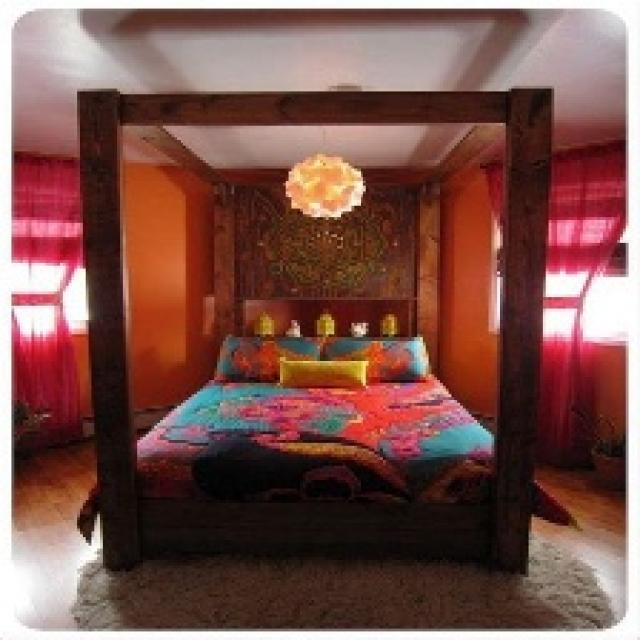Bed: (74, 86, 554, 574)
